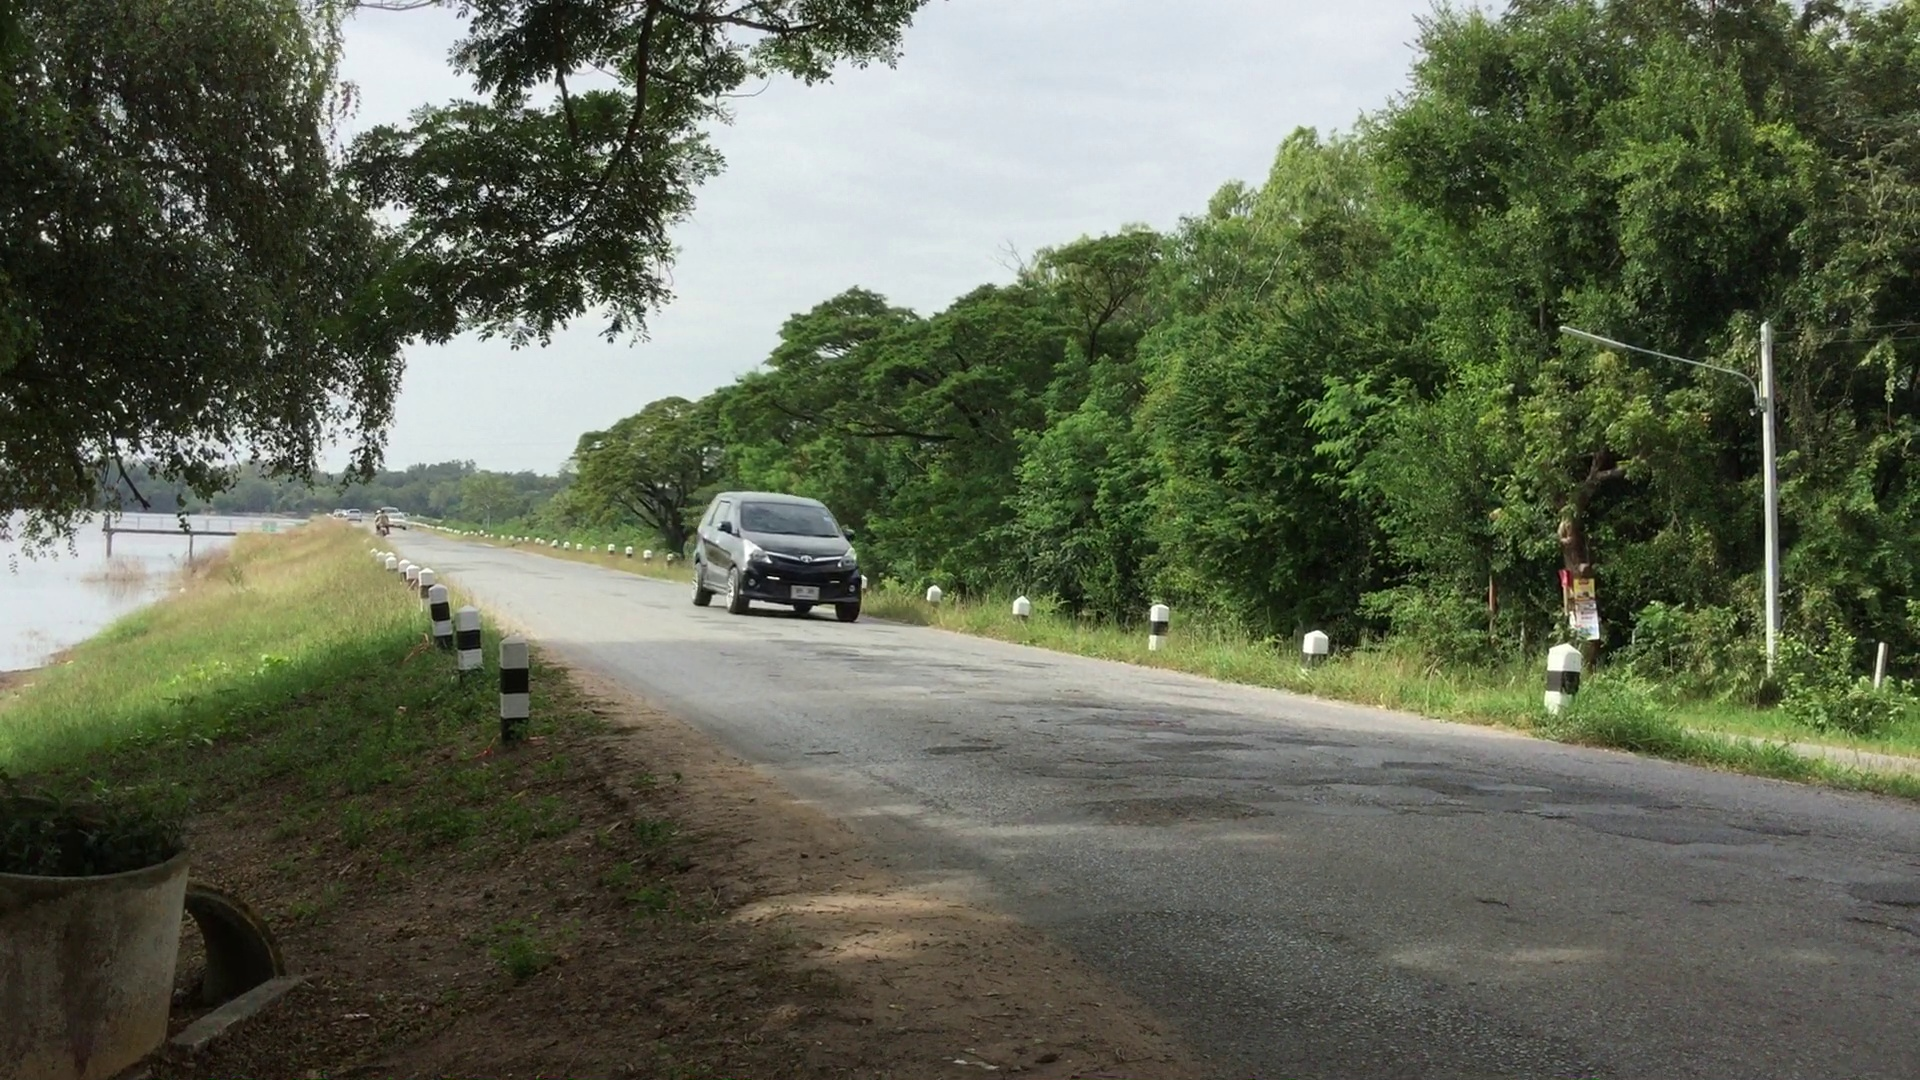car: (688, 487, 865, 621)
post: (495, 632, 533, 738), (1544, 637, 1581, 716), (454, 604, 487, 680), (421, 578, 458, 644), (1299, 626, 1329, 665), (1149, 603, 1171, 651)
